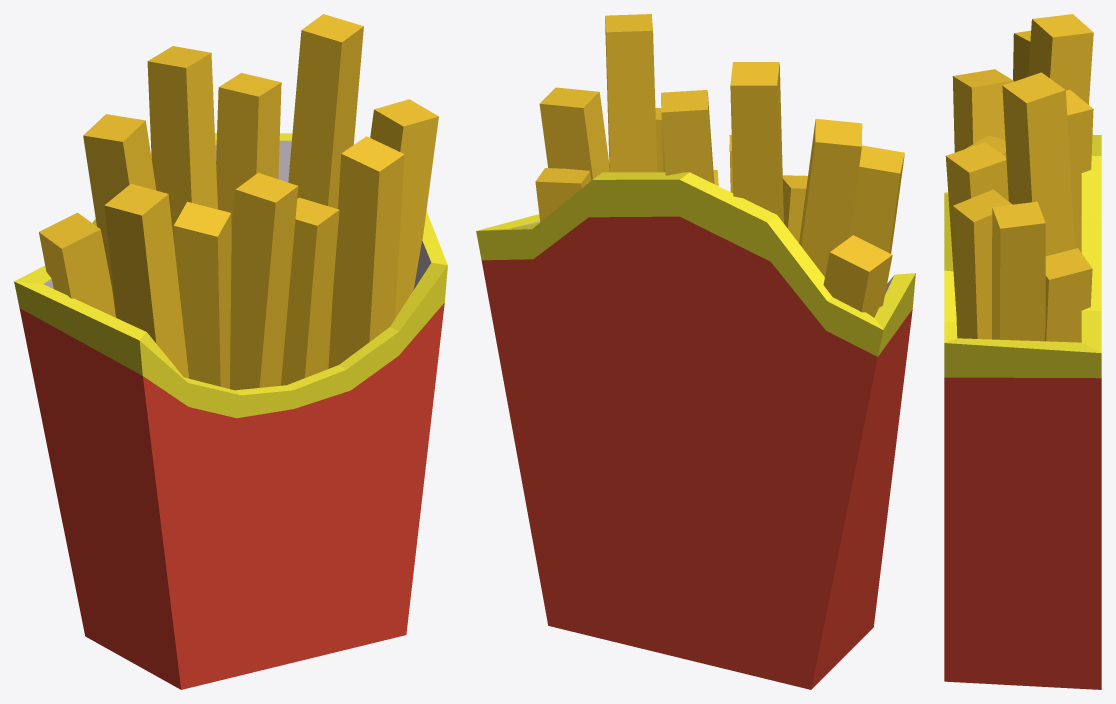
File: French Fries box C.obj
The picture shows the model from 3 angles, left to right: view 1: azimuth 30°, elevation 25°; view 2: azimuth 150°, elevation 25°; view 3: azimuth 270°, elevation 25°; orthographic projection.
Parts seen in each view (by area): view 1: French Fries box C_0; view 2: French Fries box C_0; view 3: French Fries box C_0.
Part boxes in pixels (box(x1,y1,x2,y2)): French Fries box C_0: box(14, 14, 447, 689); French Fries box C_0: box(476, 14, 915, 689); French Fries box C_0: box(944, 14, 1101, 689).
Size of the model in its own units: 0.4497 by 0.6235 by 0.1529.
Materials: 1 (1 with a texture image).
